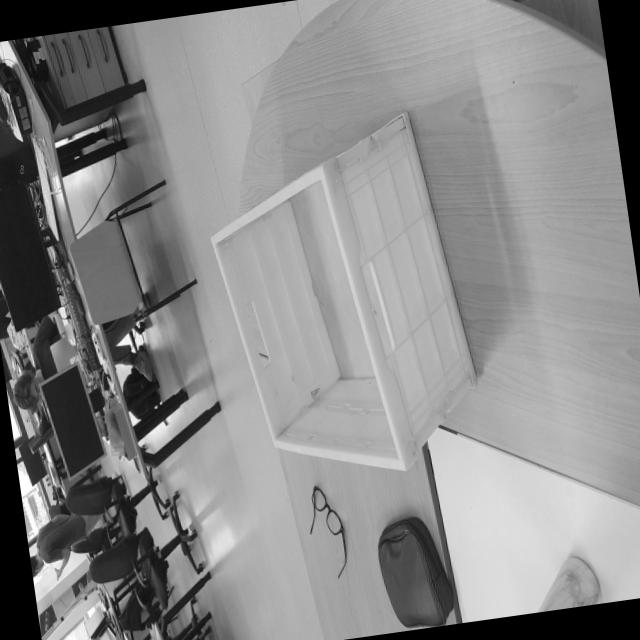box: (194, 110, 488, 494)
